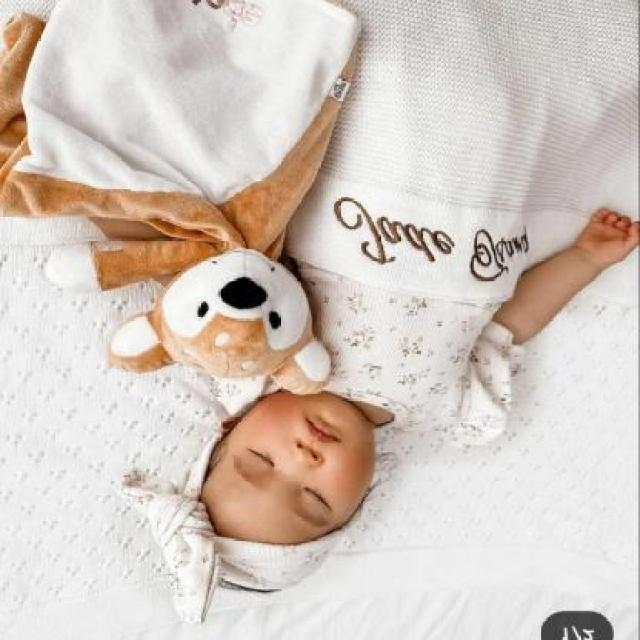baby: (146, 190, 637, 596)
